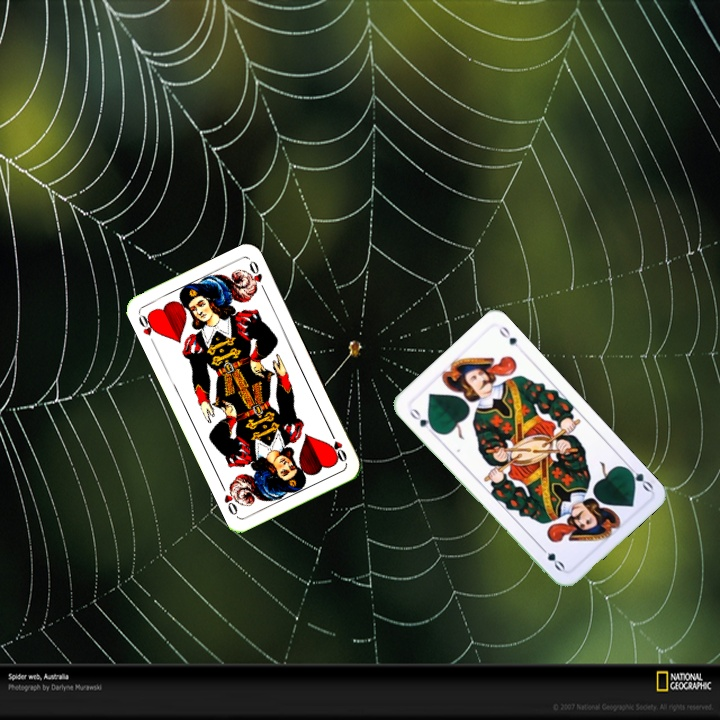GO: (620, 460, 656, 494), (405, 404, 438, 434)
HO: (134, 310, 161, 348), (326, 427, 349, 465)
